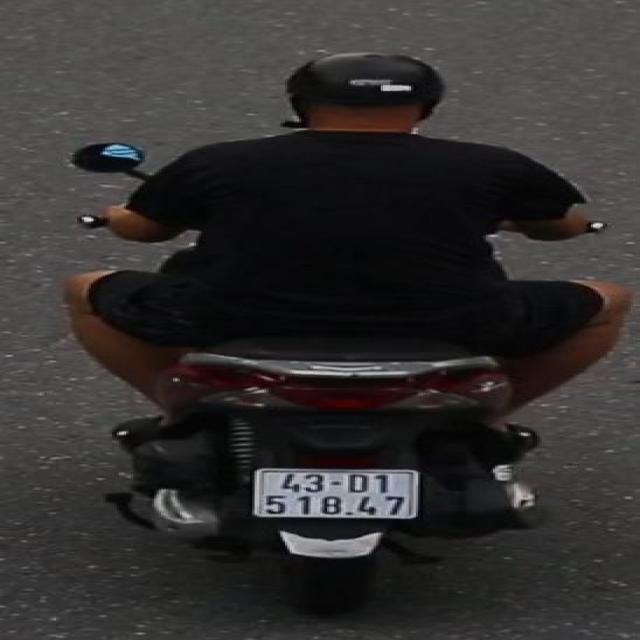LP: (226, 459, 442, 529)
helmet: (266, 42, 456, 137)
